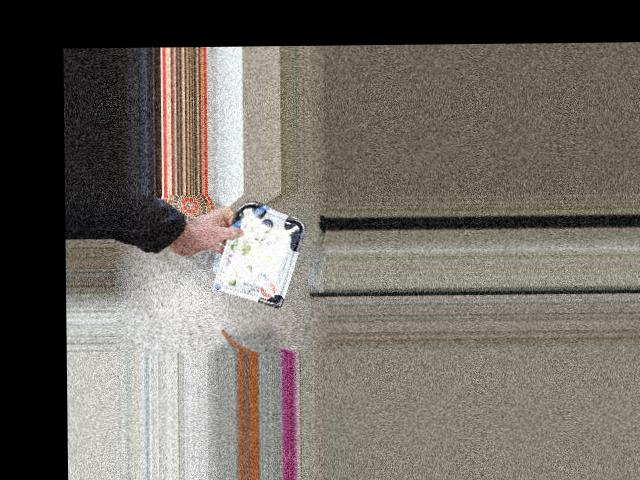cheese: (229, 206, 296, 296)
